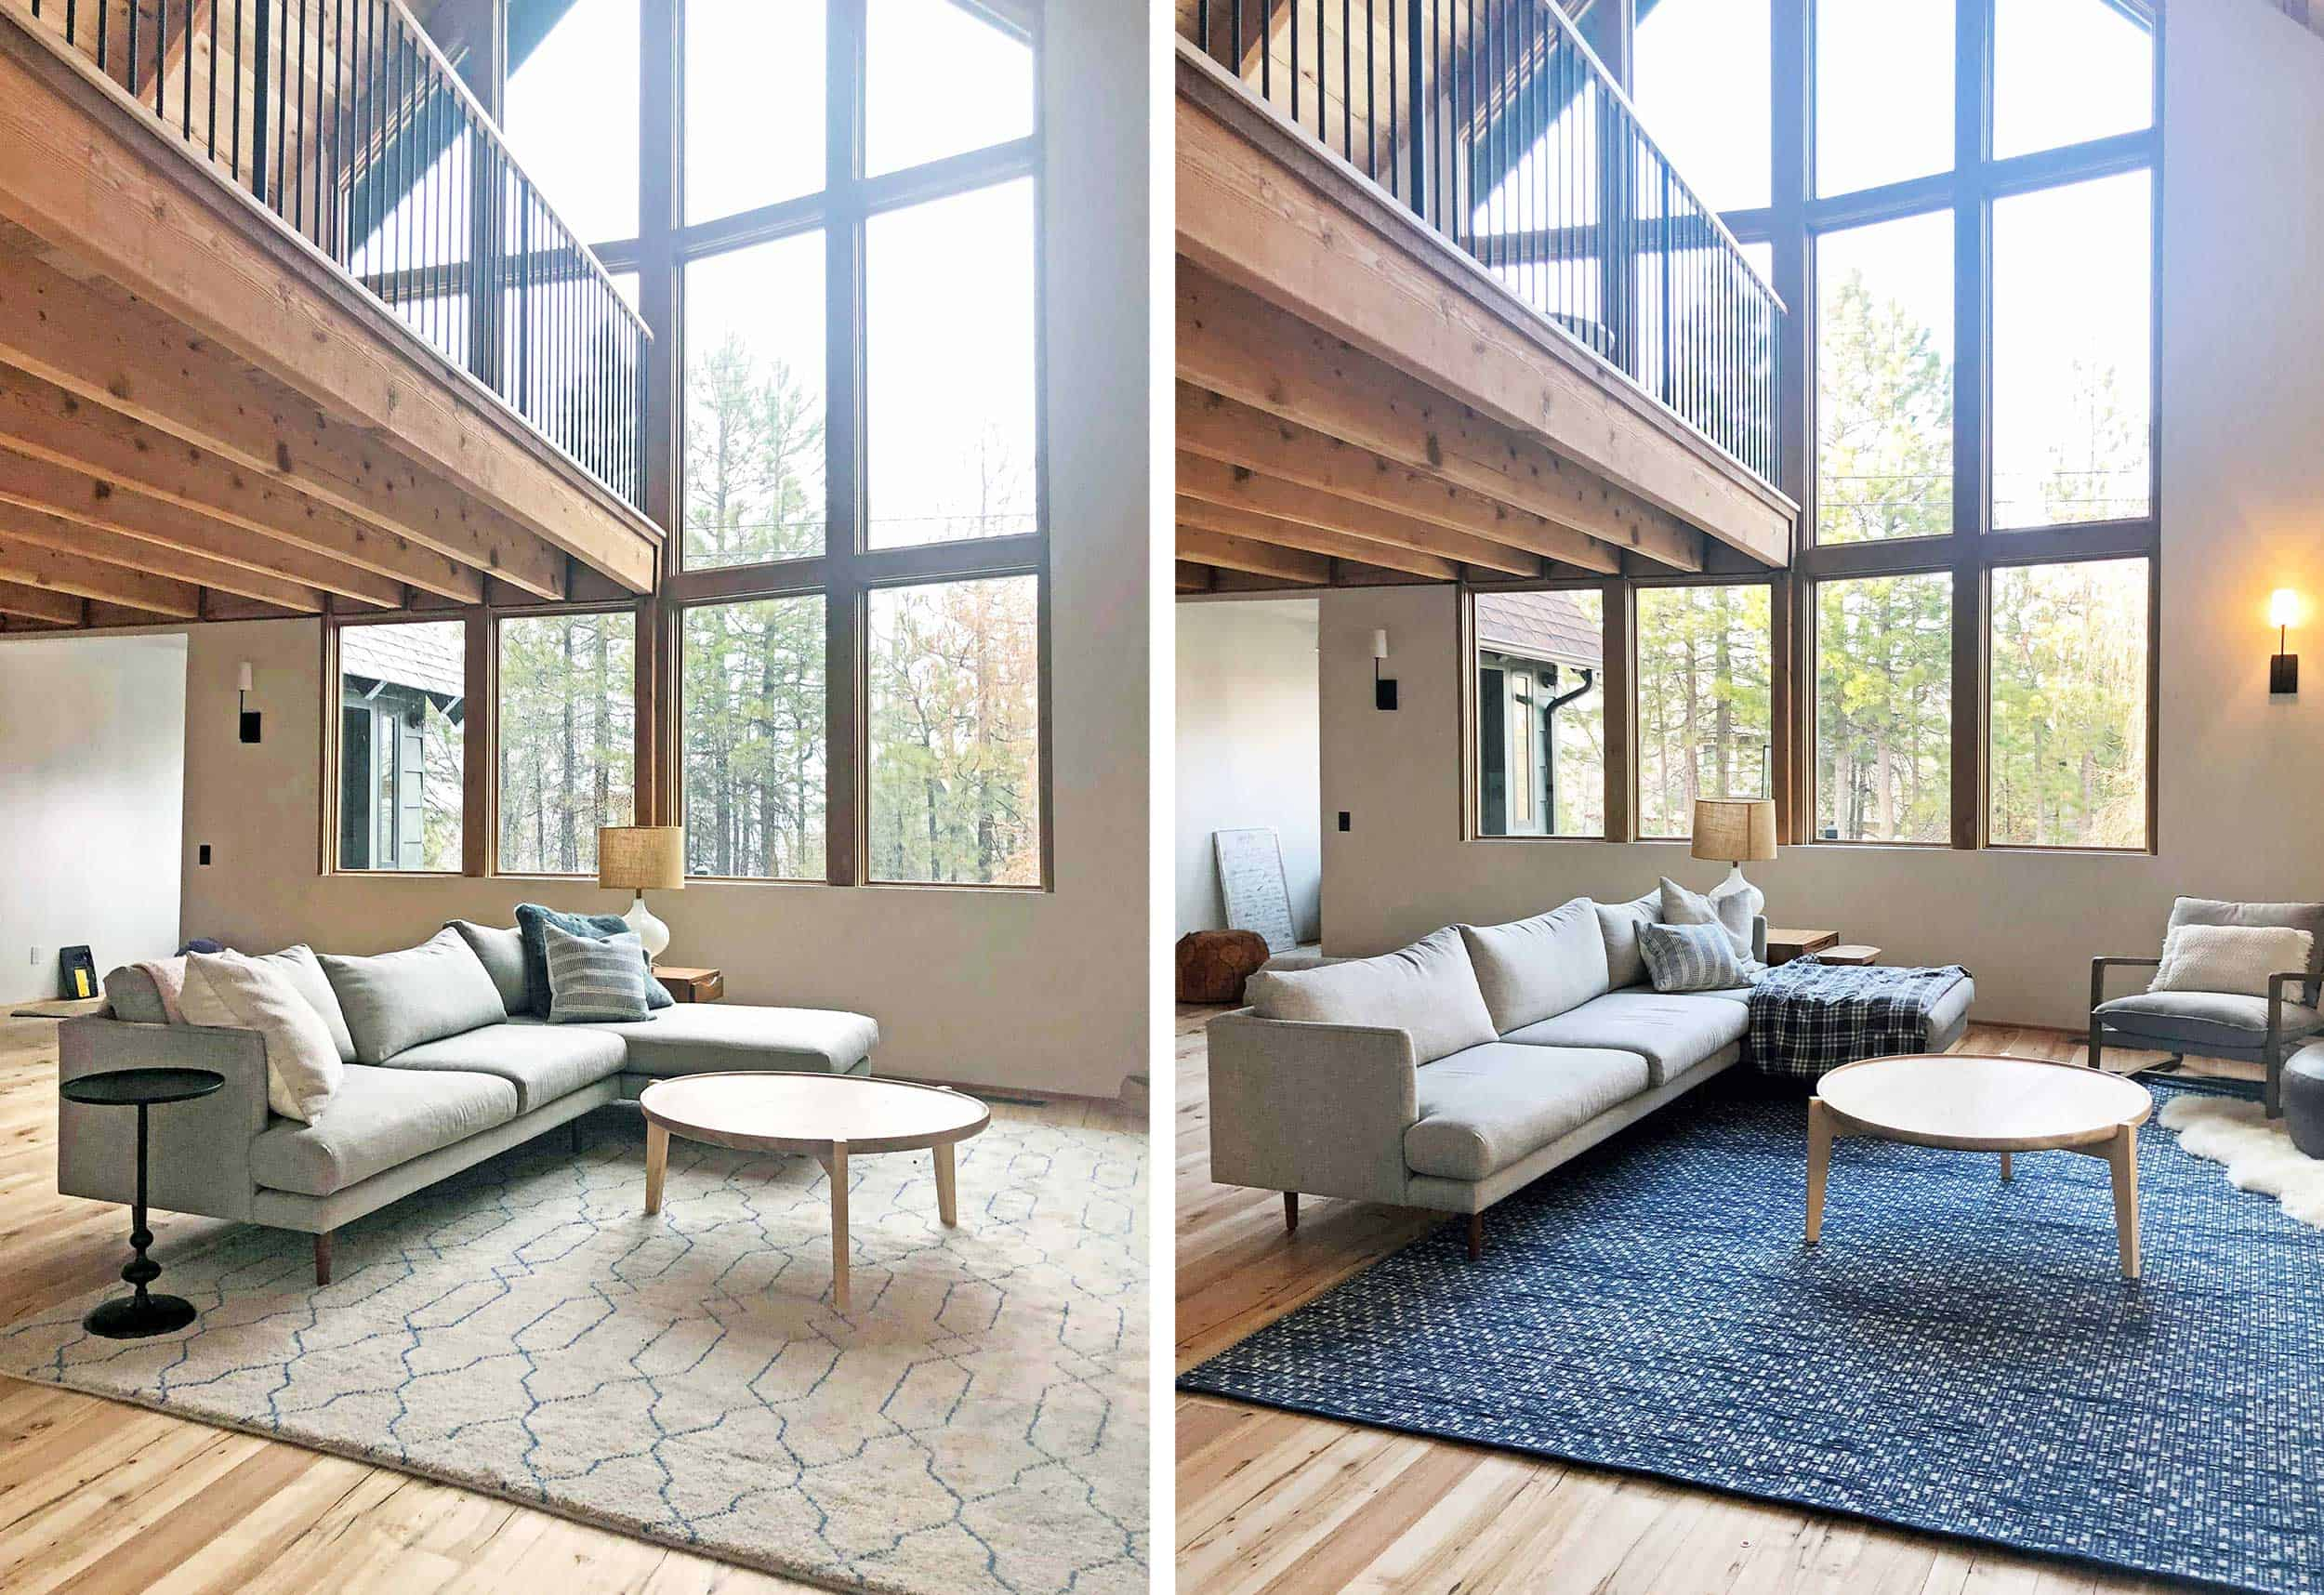coklat: (1174, 929, 1261, 1000)
hitam: (62, 1065, 214, 1334), (2267, 654, 2305, 689), (238, 712, 267, 744)
putih: (2174, 929, 2310, 1003), (622, 901, 668, 959)
